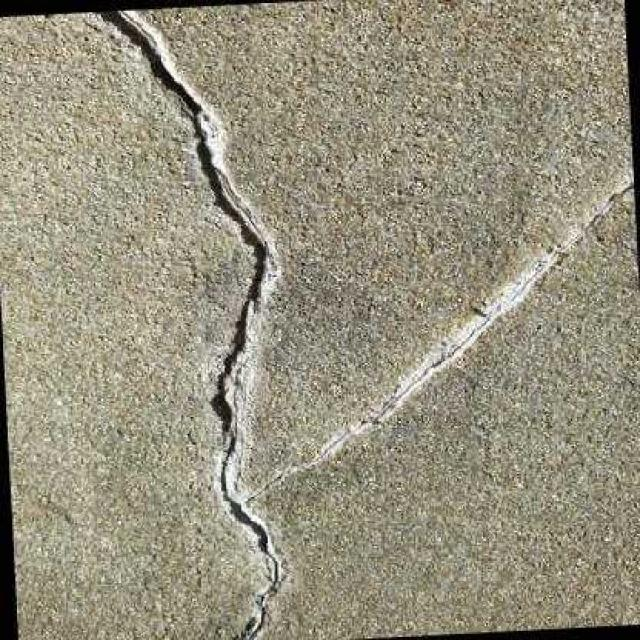D00: (242, 180, 633, 503), (91, 10, 278, 640)
